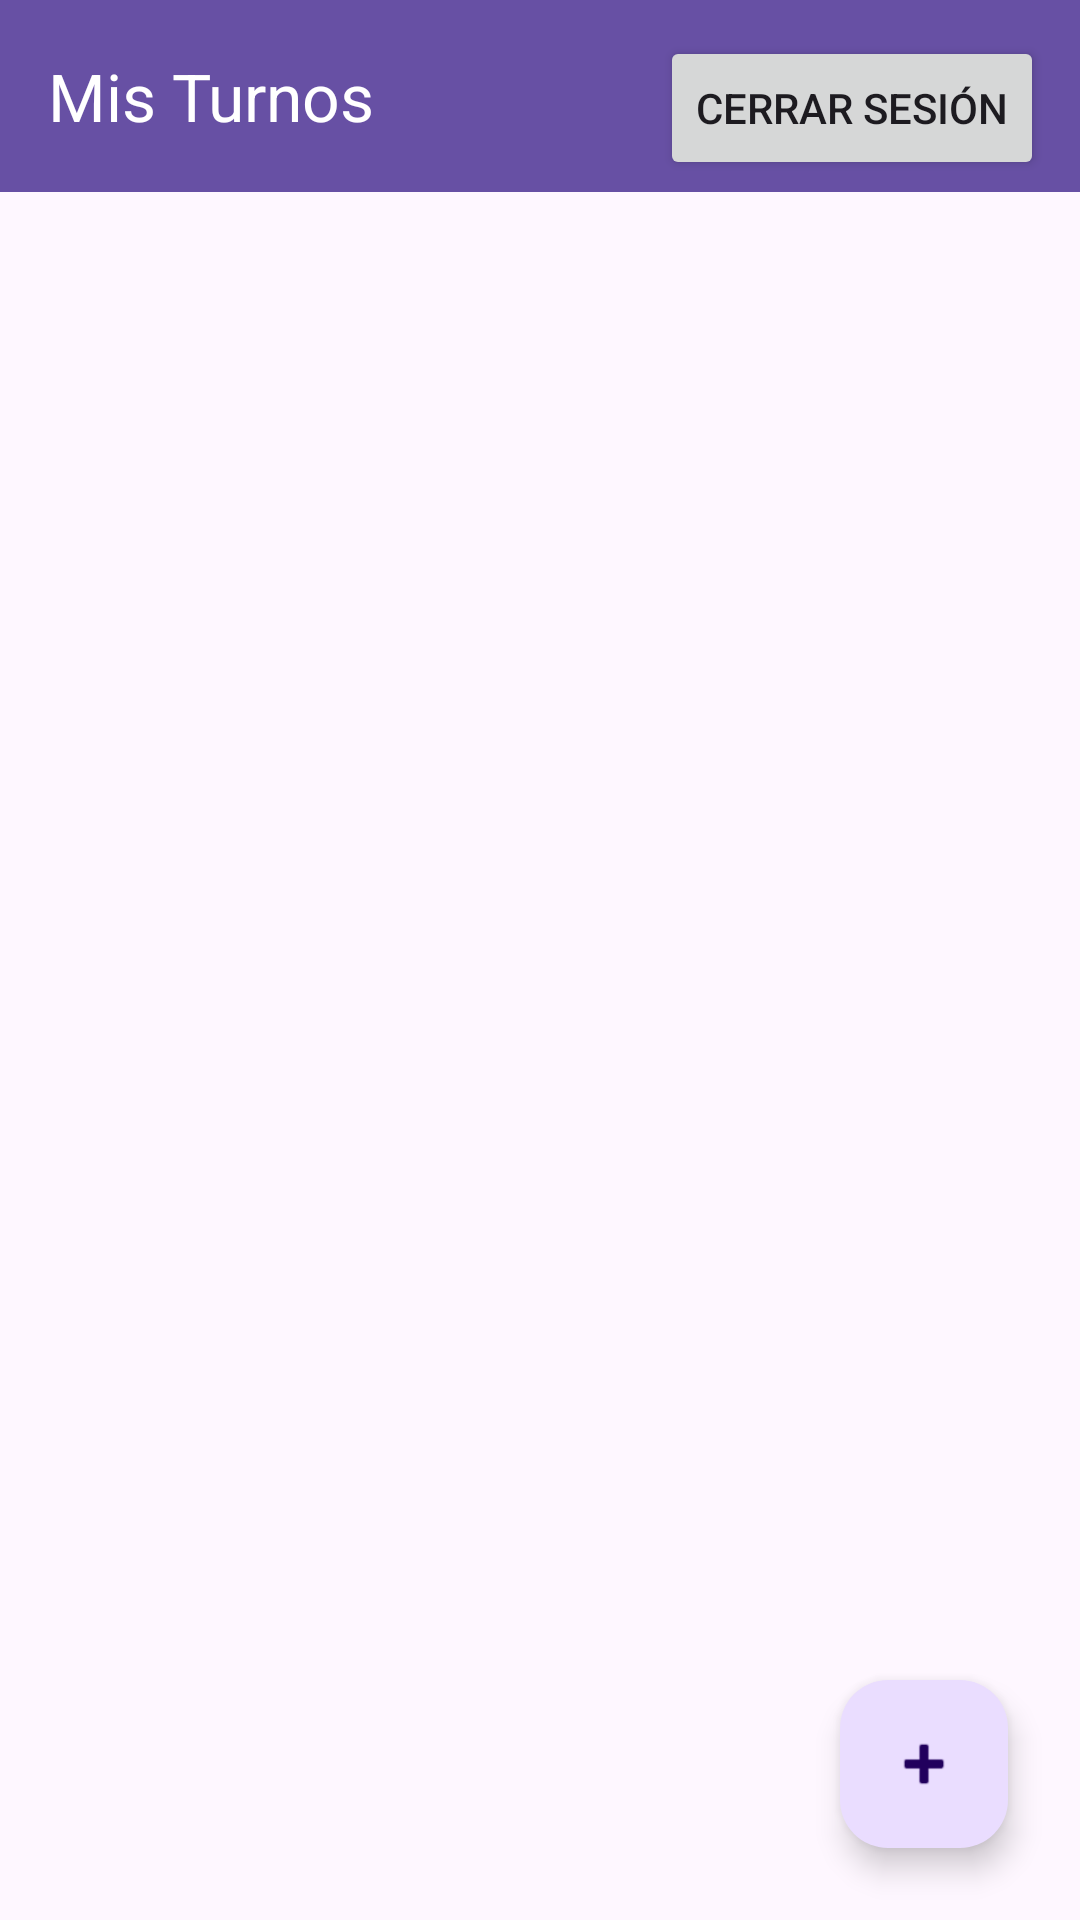

Icons on this 1080px×1920px Android screen, each with the point to tap as (x=x, y=y):
Crear Nuevo Turno: (x=924, y=1764)
